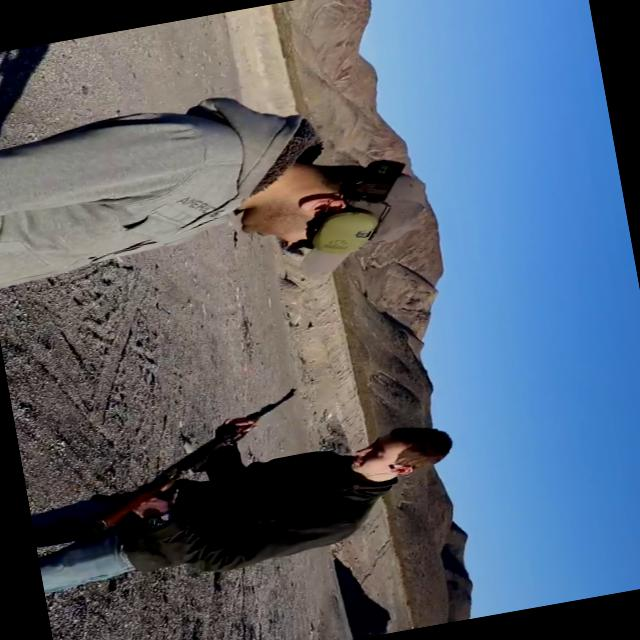long weapon: (74, 362, 348, 550)
